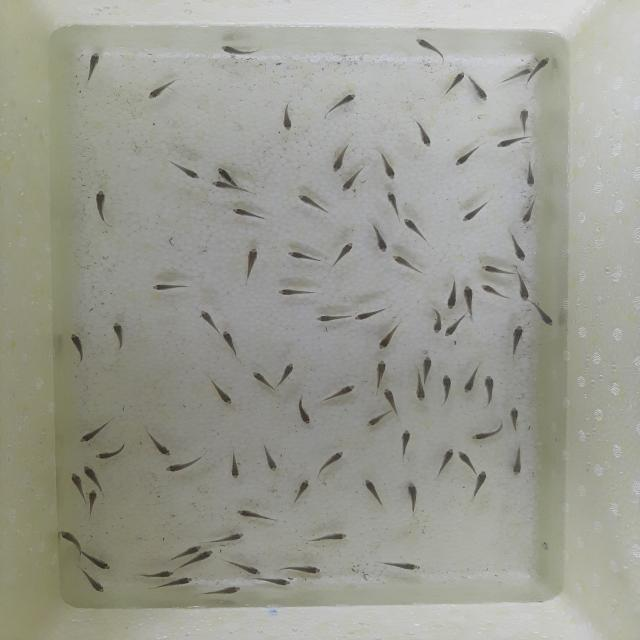fingerling: (203, 374, 235, 406), (158, 456, 204, 478), (415, 37, 449, 66), (106, 320, 134, 353), (162, 159, 205, 180), (294, 194, 332, 217), (371, 325, 403, 352), (242, 245, 266, 280), (399, 216, 431, 242), (144, 431, 176, 456), (508, 232, 532, 264), (90, 188, 113, 221), (79, 50, 104, 80), (145, 80, 182, 100), (326, 93, 358, 115), (228, 206, 278, 220), (212, 180, 252, 197), (328, 146, 352, 174), (66, 332, 88, 362), (218, 44, 264, 58), (234, 508, 280, 522), (80, 575, 112, 595), (294, 399, 316, 428), (332, 242, 357, 267), (443, 71, 466, 98), (78, 424, 105, 447), (414, 120, 436, 148), (390, 254, 422, 273), (324, 385, 362, 401), (165, 543, 203, 559), (531, 308, 558, 330), (230, 558, 263, 576), (480, 263, 517, 279), (434, 447, 453, 478), (368, 224, 389, 252), (452, 147, 481, 167), (258, 448, 282, 472), (204, 532, 248, 545), (250, 370, 277, 391), (309, 532, 352, 545), (318, 450, 347, 469), (58, 528, 83, 550), (150, 281, 186, 296), (284, 250, 322, 264), (461, 366, 480, 394), (501, 66, 534, 82), (311, 312, 344, 328), (461, 203, 486, 224), (410, 369, 425, 404), (278, 357, 296, 386), (224, 452, 242, 481), (440, 284, 460, 310), (471, 79, 493, 102), (442, 317, 465, 339), (219, 332, 239, 357), (439, 375, 454, 408), (91, 447, 124, 462), (379, 560, 424, 571), (521, 160, 539, 187), (364, 477, 382, 504), (495, 136, 535, 148), (513, 279, 533, 303), (477, 282, 503, 300), (284, 565, 323, 577), (198, 309, 218, 332), (517, 105, 534, 132), (472, 469, 489, 496), (404, 483, 421, 510), (482, 374, 497, 404), (380, 152, 396, 180), (386, 191, 404, 215), (468, 429, 504, 441), (82, 490, 100, 514), (281, 104, 295, 134), (354, 307, 384, 321), (293, 478, 308, 506), (204, 586, 246, 596), (420, 356, 436, 382), (365, 411, 388, 429), (511, 325, 526, 352), (278, 287, 318, 297), (462, 287, 476, 315), (511, 448, 525, 476), (90, 556, 116, 571), (520, 203, 536, 227), (170, 574, 202, 586), (189, 550, 216, 564), (66, 473, 83, 495), (457, 451, 475, 471), (84, 464, 100, 486), (217, 165, 237, 182), (429, 312, 446, 332), (384, 388, 397, 414), (534, 56, 551, 74), (400, 429, 413, 452), (376, 361, 387, 388), (340, 176, 356, 194), (260, 578, 292, 587), (508, 408, 520, 431), (146, 570, 178, 578)
